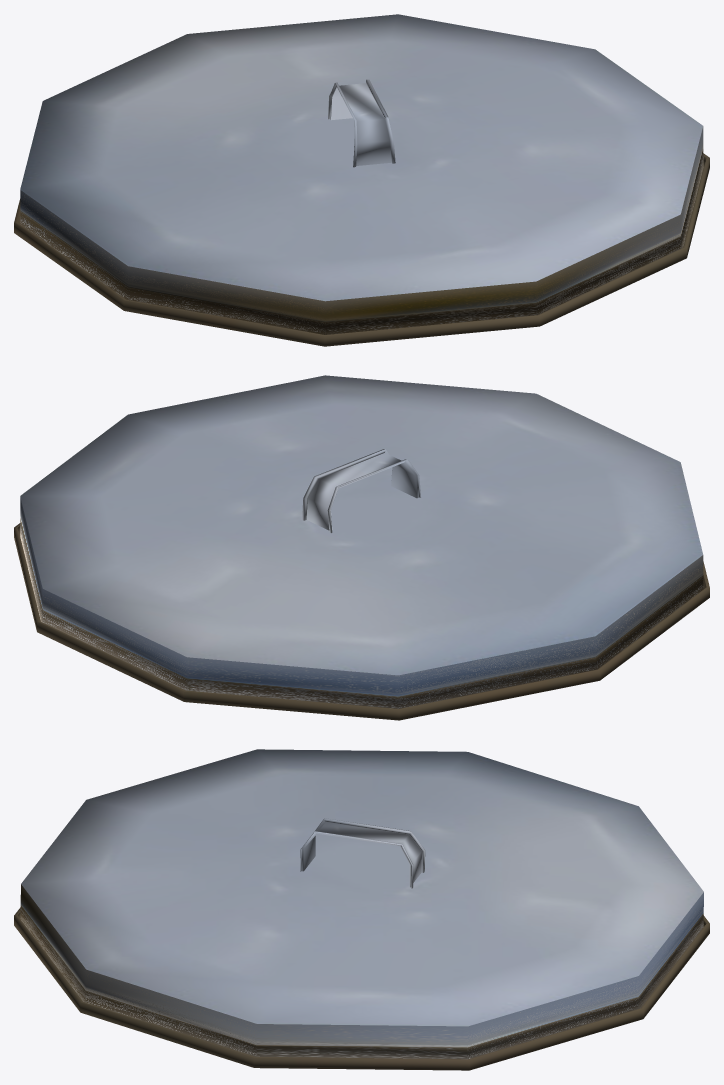
File: WorldItem_TrashcanLid.fbx
3 views of the same model, one above another, from view 1: azimuth 30°, elevation 25°; view 2: azimuth 150°, elevation 25°; view 3: azimuth 270°, elevation 25° (orthographic). The views are drawn at different scales.
Visible parts, largest first — view 1: Cylinder; view 2: Cylinder; view 3: Cylinder.
Boxes of the visible parts, left/top/right/bottom form: Cylinder: left=14, top=14, right=709, bottom=346; Cylinder: left=14, top=375, right=709, bottom=720; Cylinder: left=14, top=749, right=709, bottom=1070.
Size of the model in its own units: 0.4638 by 0.0793 by 0.4877.
